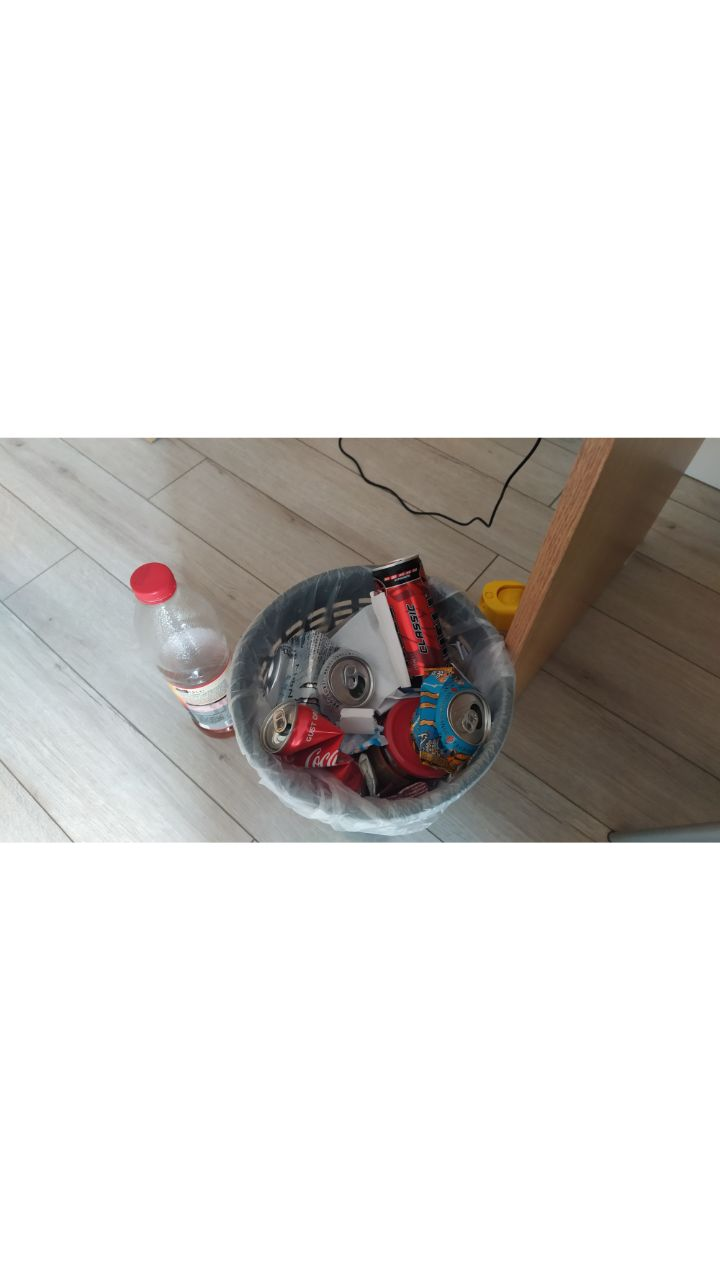Can: (367, 551, 449, 679), (264, 628, 369, 715), (408, 661, 491, 761), (269, 707, 352, 787)
